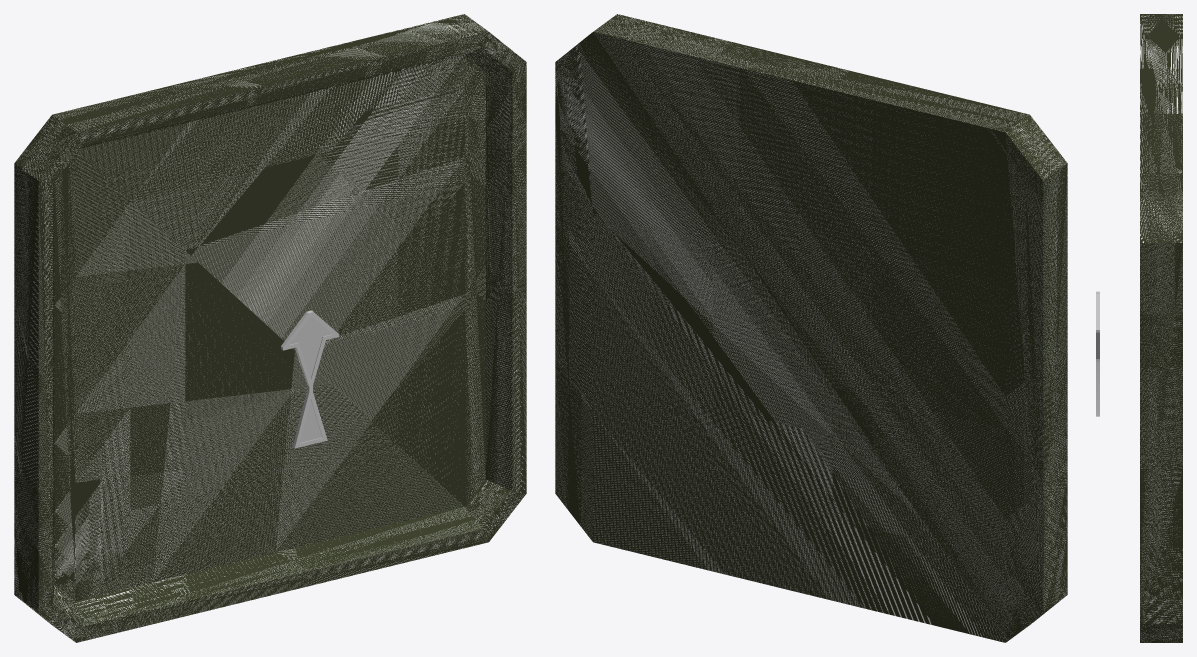
The model's file is CM_-_Aviation.obj.
The picture shows the model from 3 angles, left to right: view 1: azimuth 30°, elevation 25°; view 2: azimuth 150°, elevation 25°; view 3: azimuth 270°, elevation 25°; orthographic projection. The views are drawn at different scales.
Visible parts, largest first — view 1: Button.001_ID13, Button_ID3, SM_CM_-_Aviation_mesh.020; view 2: Button_ID3; view 3: Button_ID3, SM_CM_-_Aviation_mesh.020.
Part boxes in pixels (box(x1,y1,x2,y2)): Button.001_ID13: box(53, 48, 512, 626); Button_ID3: box(14, 14, 526, 642); SM_CM_-_Aviation_mesh.020: box(281, 310, 339, 448); Button_ID3: box(555, 14, 1067, 642); Button_ID3: box(1140, 14, 1182, 642); SM_CM_-_Aviation_mesh.020: box(1096, 291, 1099, 416).
Bounding box in the file's own units: 1 × 1 × 0.1747.
